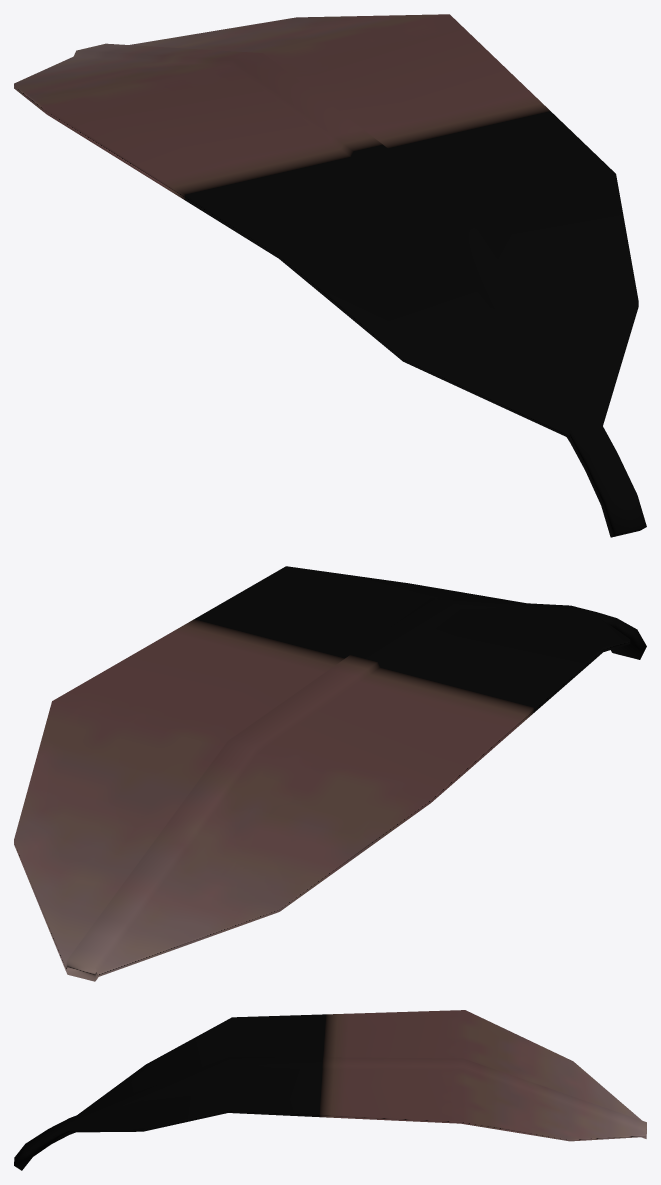
The model's file is M_RootPalmTreeLeaf01.fbx.
3 views of the same model, one above another, from view 1: azimuth 30°, elevation 25°; view 2: azimuth 150°, elevation 25°; view 3: azimuth 270°, elevation 25° (orthographic). The views are drawn at different scales.
Parts seen in each view (by area): view 1: M_RootPalmTreeLeaf01; view 2: M_RootPalmTreeLeaf01; view 3: M_RootPalmTreeLeaf01.
Part boxes in pixels (<box>): M_RootPalmTreeLeaf01: <box>14,14,646,537</box>; M_RootPalmTreeLeaf01: <box>14,566,646,981</box>; M_RootPalmTreeLeaf01: <box>14,1010,646,1170</box>.
Bounding box in the file's own units: 701 × 319 × 1699.
1 material, 1 textured.
